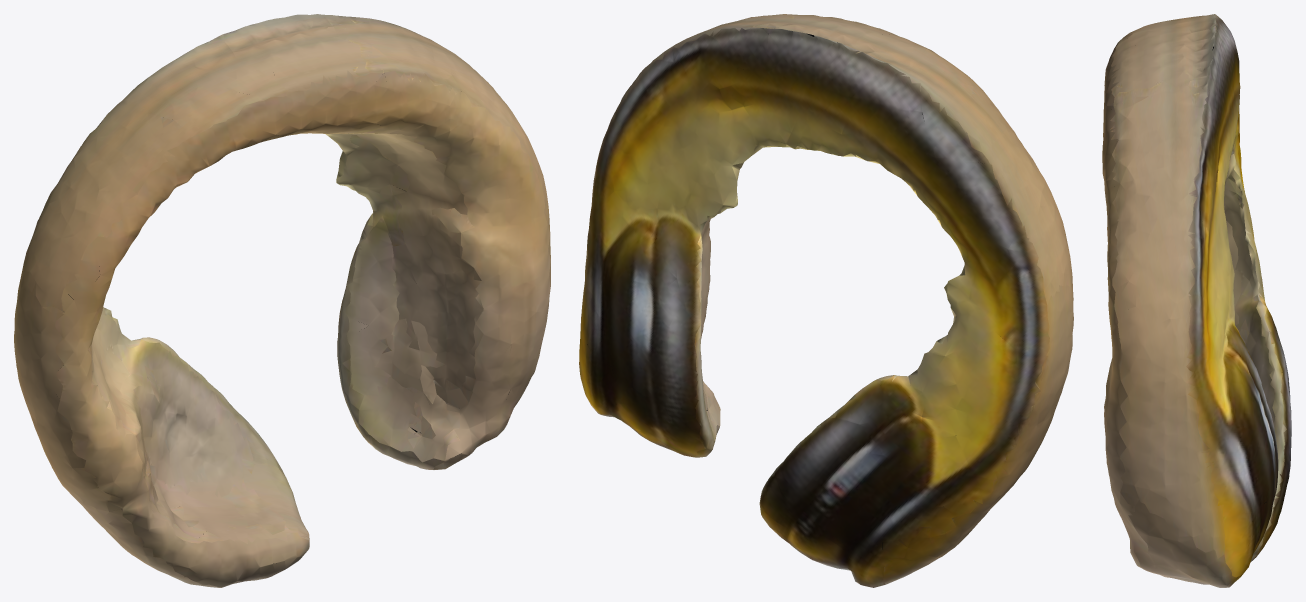
Rendered from electronics.glb.
3 renders of one model, left to right at view 1: azimuth 30°, elevation 25°; view 2: azimuth 150°, elevation 25°; view 3: azimuth 270°, elevation 25°, orthographic. The views are drawn at different scales.
Parts seen in each view (by area): view 1: world; view 2: world; view 3: world.
Part boxes in pixels (left/top/right/bottom): world: left=14, top=14, right=550, bottom=587; world: left=579, top=14, right=1073, bottom=587; world: left=1102, top=14, right=1291, bottom=587.
Bounding box in the file's own units: 0.8771 × 0.917 × 0.29.
1 material, 1 textured.
